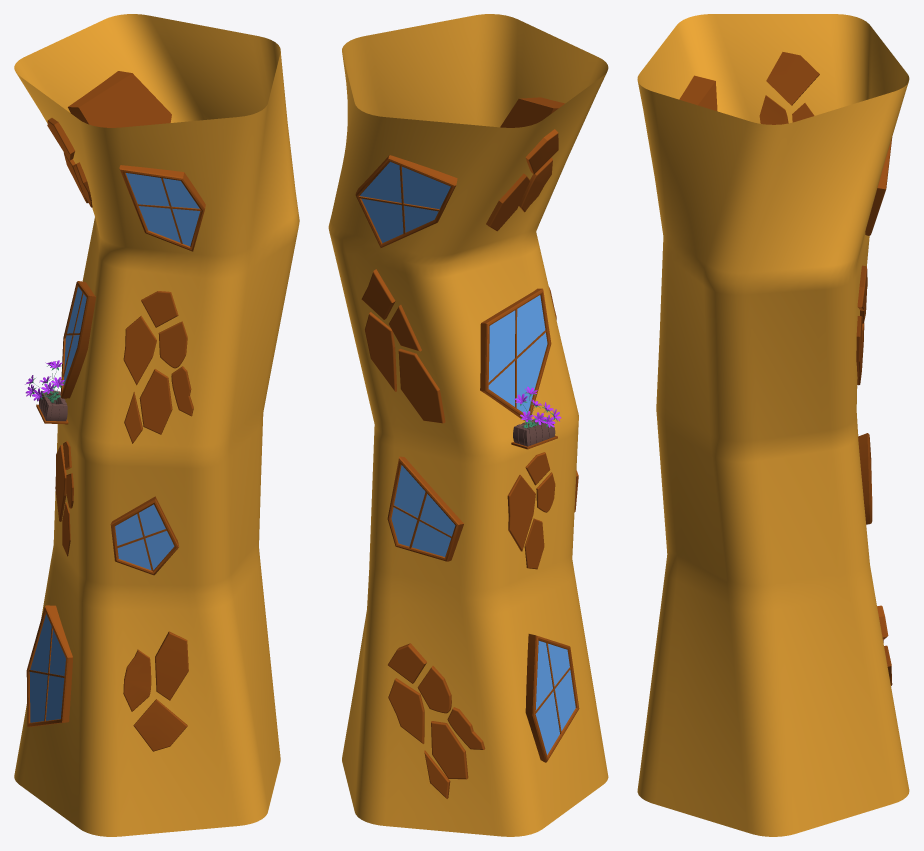
The model's file is girafe.fbx.
3 views of the same model, side by side, from view 1: azimuth 30°, elevation 25°; view 2: azimuth 150°, elevation 25°; view 3: azimuth 270°, elevation 25° (orthographic).
Visible parts, largest first — view 1: Loft, tachesA_1, encadrureA, Cap_A_1, Flower_Patch_1, POT_DE_FLEUR_2; view 2: Loft, tachesA_1, Cap_A_1, encadrureA, POT_DE_FLEUR_2, Flower_Patch_1; view 3: Loft, tachesA_1, encadrureA.
Boxes of the visible parts, left/top/right/bottom form: Loft: left=14, top=14, right=299, bottom=836; tachesA_1: left=47, top=118, right=193, bottom=751; encadrureA: left=26, top=71, right=205, bottom=727; Cap_A_1: left=29, top=173, right=200, bottom=722; Flower_Patch_1: left=25, top=360, right=64, bottom=403; POT_DE_FLEUR_2: left=39, top=390, right=67, bottom=421; Loft: left=328, top=14, right=608, bottom=836; tachesA_1: left=361, top=129, right=558, bottom=798; Cap_A_1: left=360, top=161, right=575, bottom=754; encadrureA: left=355, top=97, right=579, bottom=762; POT_DE_FLEUR_2: left=513, top=419, right=555, bottom=446; Flower_Patch_1: left=514, top=386, right=561, bottom=428; Loft: left=637, top=14, right=909, bottom=836; tachesA_1: left=759, top=52, right=892, bottom=685; encadrureA: left=679, top=75, right=892, bottom=524.
Size of the model in its own units: 3.52 by 10.4 by 3.6.
